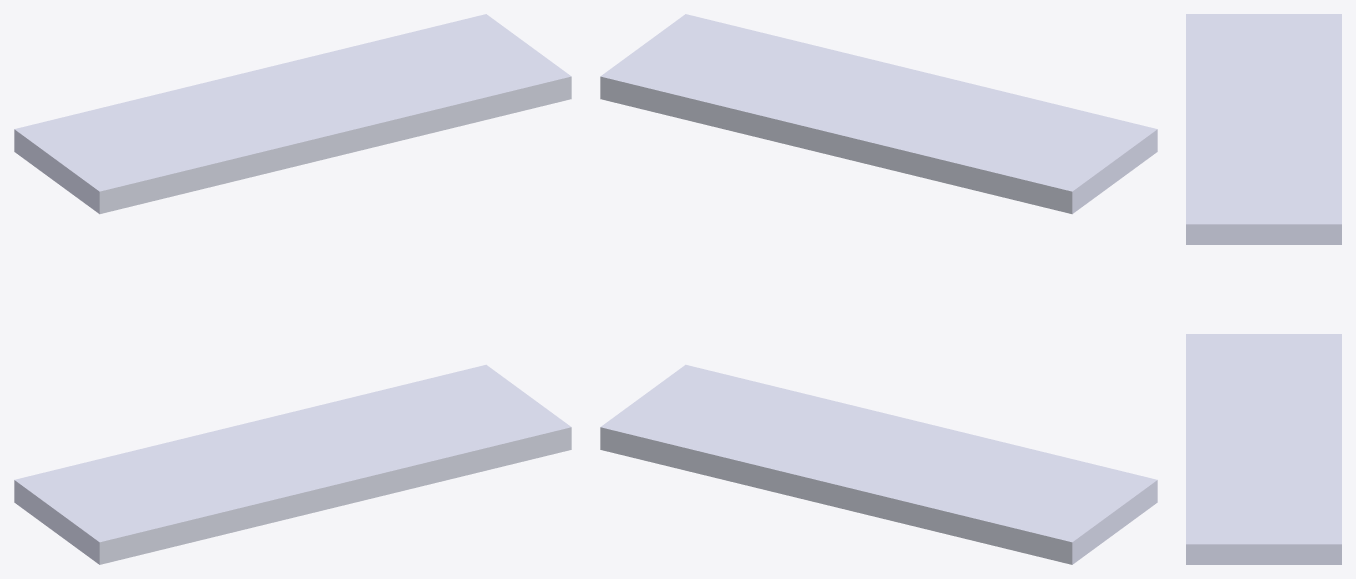
The picture shows the model from 3 angles, left to right: view 1: azimuth 30°, elevation 25°; view 2: azimuth 150°, elevation 25°; view 3: azimuth 270°, elevation 25°; orthographic projection. The views are drawn at different scales.
Visible parts, largest first — view 1: =_AlphaProta_Grey; view 2: =_AlphaProta_Grey; view 3: =_AlphaProta_Grey.
Part boxes in pixels (x1=…): =_AlphaProta_Grey: x1=14, y1=14, x2=571, y2=564; =_AlphaProta_Grey: x1=600, y1=14, x2=1157, y2=564; =_AlphaProta_Grey: x1=1186, y1=14, x2=1341, y2=564.
Size of what is drawn, in the model's own units: 0.1436 by 0.1086 by 0.045.
2 materials, 2 textured.
